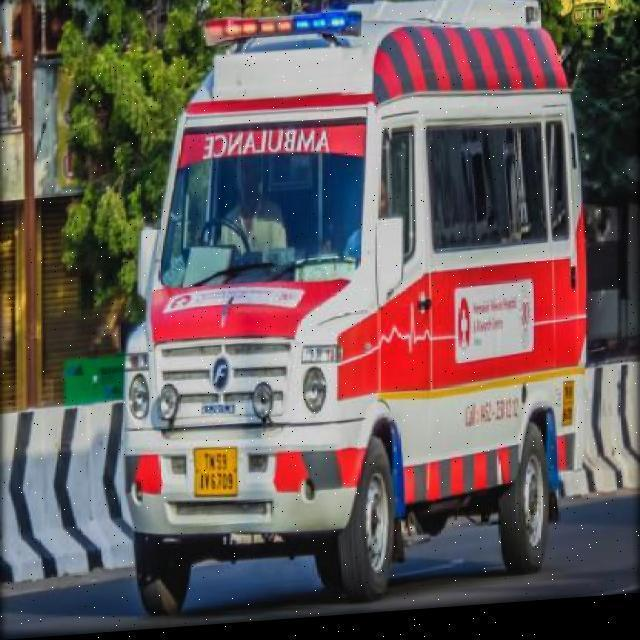Ambulance: (114, 0, 596, 627), (0, 490, 638, 638), (209, 157, 291, 268)
